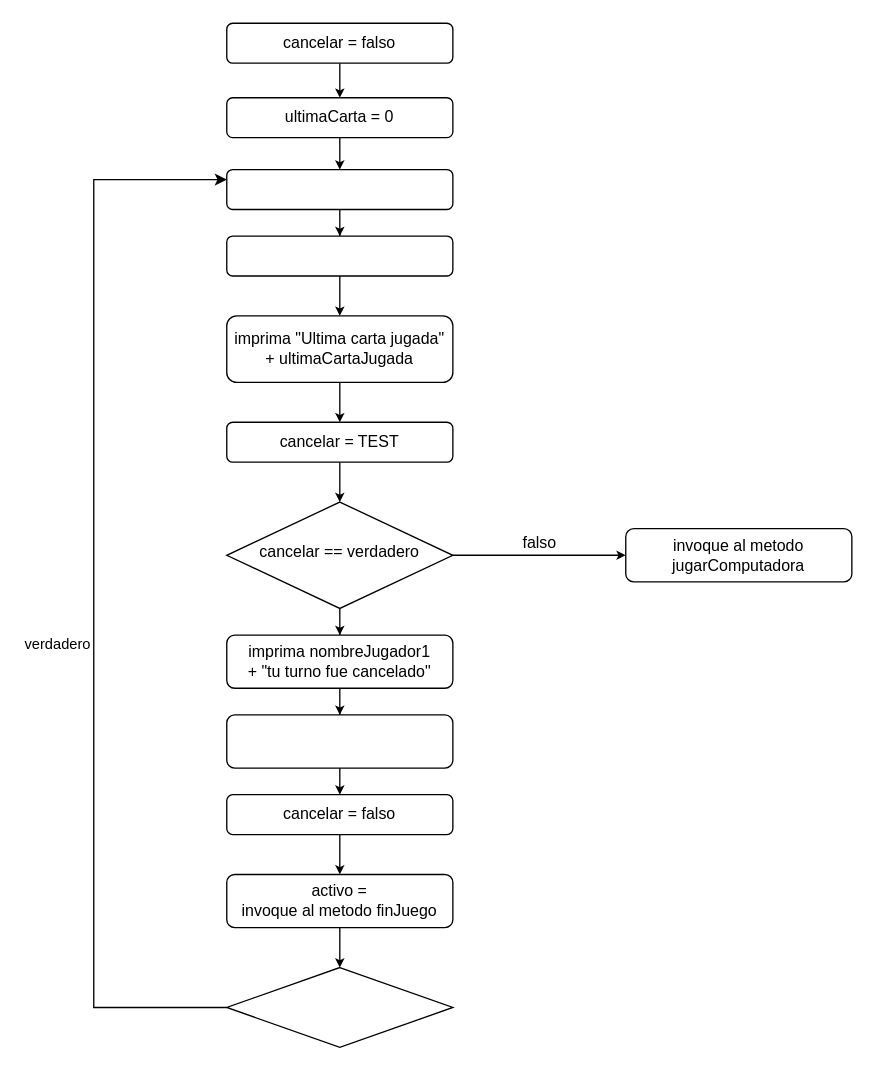
This 875x1071 diagram has some shape labels left out. Here are the shapes that lost their labels. From the top down, the centre of each, then its label:
At [339,188]: "cartaEspecial = falso".
At [339,255]: "comerEspecial = 0".
At [339,741]: "ultimaCarta = tamanio(basura) - 2".
At [339,1006]: "Activo == verdadero".
